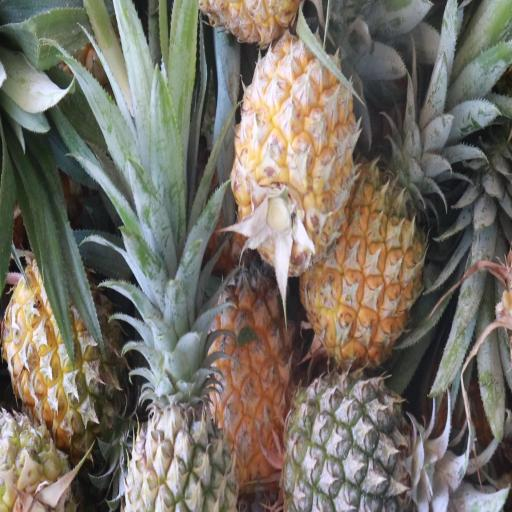------------------------------: (4, 248, 124, 440)
Pineapple - v8 v1: (235, 34, 354, 271), (301, 160, 421, 360), (204, 251, 293, 478)
